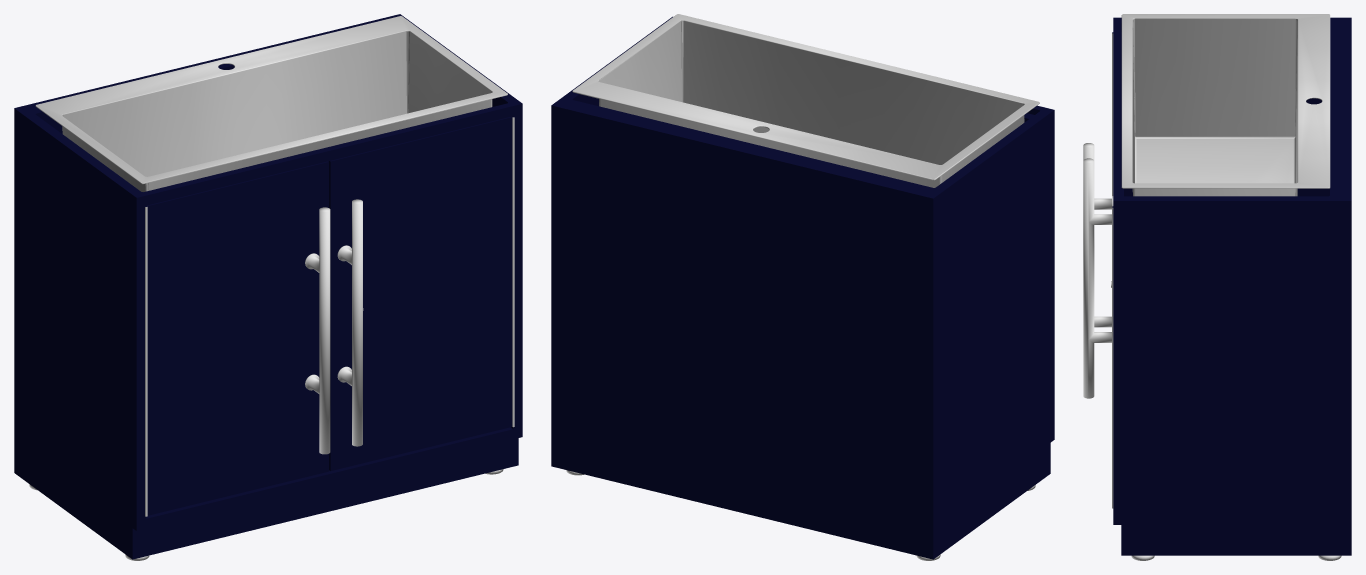
Rendered from sinkBaseLux.glb.
3 views of the same model, side by side, from view 1: azimuth 30°, elevation 25°; view 2: azimuth 150°, elevation 25°; view 3: azimuth 270°, elevation 25° (orthographic). The views are drawn at different scales.
Visible parts, largest first — view 1: doors, baseShell, sink, handles, hinge; view 2: baseShell, sink; view 3: baseShell, sink, handles, hinge.
Boxes of the visible parts, x1=… form: doors: x1=145, y1=116, x2=514, y2=515; baseShell: x1=14, y1=14, x2=522, y2=559; sink: x1=35, y1=16, x2=507, y2=191; handles: x1=305, y1=199, x2=362, y2=454; hinge: x1=145, y1=117, x2=514, y2=516; baseShell: x1=551, y1=16, x2=1054, y2=559; sink: x1=572, y1=14, x2=1039, y2=187; baseShell: x1=1113, y1=17, x2=1351, y2=555; sink: x1=1121, y1=14, x2=1330, y2=196; handles: x1=1083, y1=143, x2=1113, y2=398; hinge: x1=1112, y1=33, x2=1113, y2=508.
Bounding box in the file's own units: 1.02 × 0.9603 × 0.6287.
3 materials, 1 textured.
